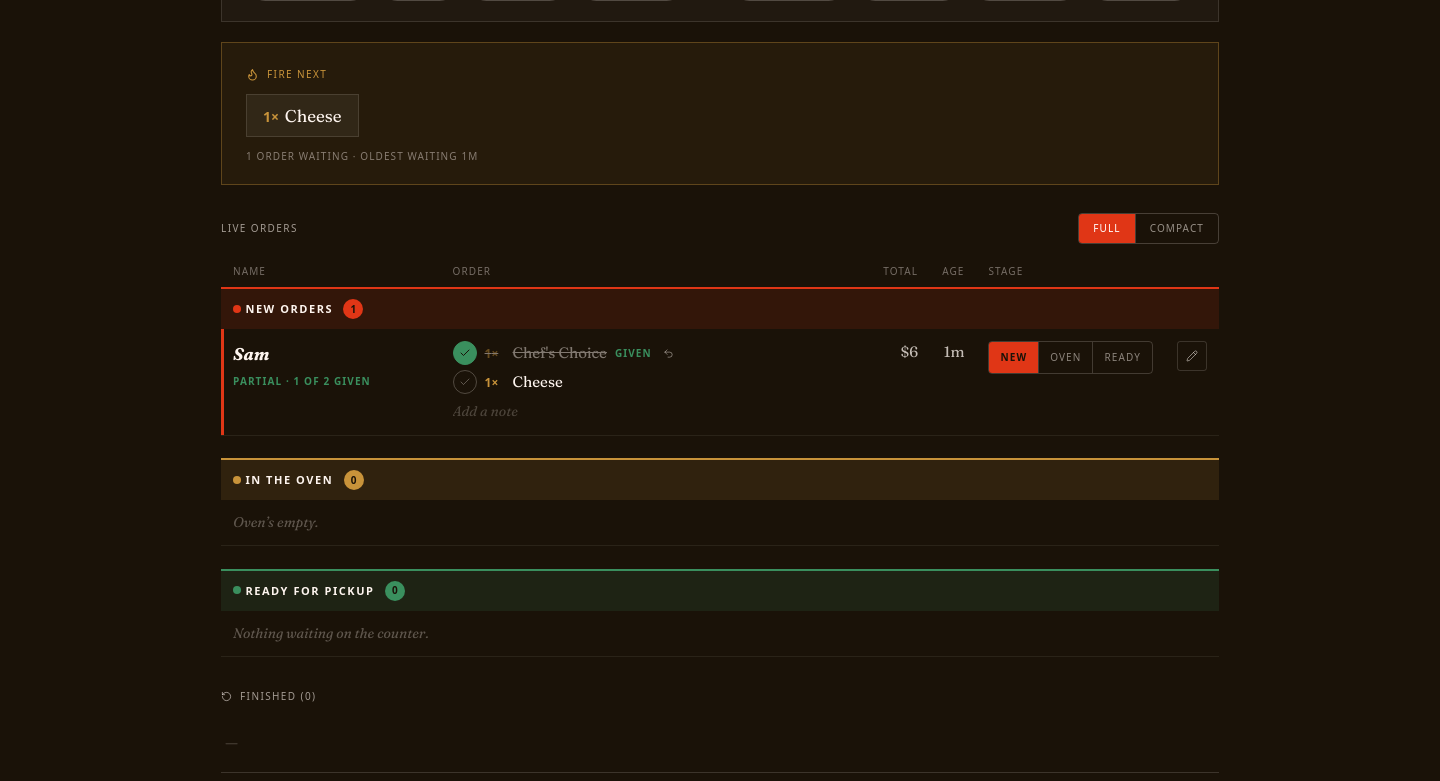
Test: AdminPage — handing over part of an order › moves the order to Finished when its last slice goes out
(page scrolled)
Expected: the element named "stage for sam" is shown, [988,341,1153,374]
Click the button named "Hand over one Cheese to Sam" at (464, 382), box [452,370,476,394]
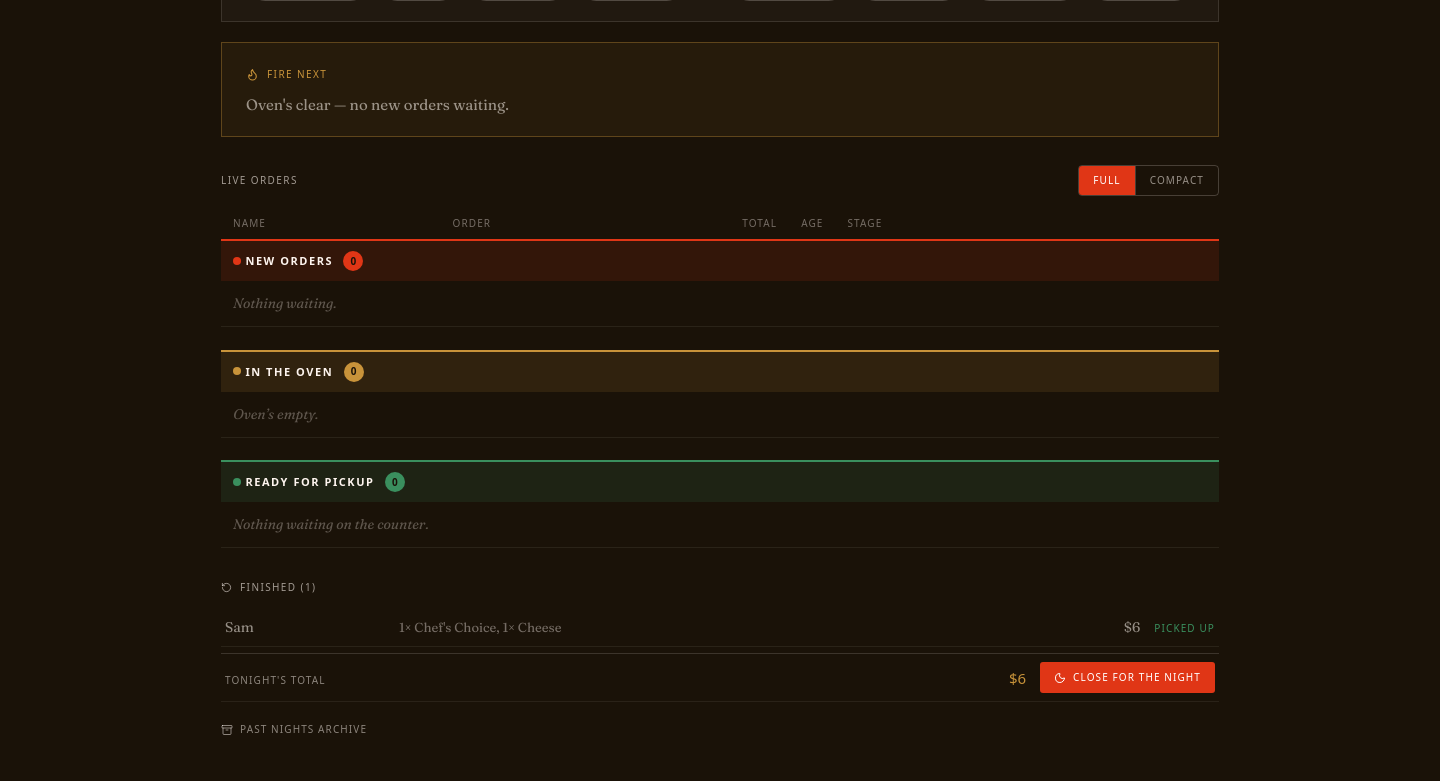
Now the text "picked up" is shown, box [1154,621,1215,636]
